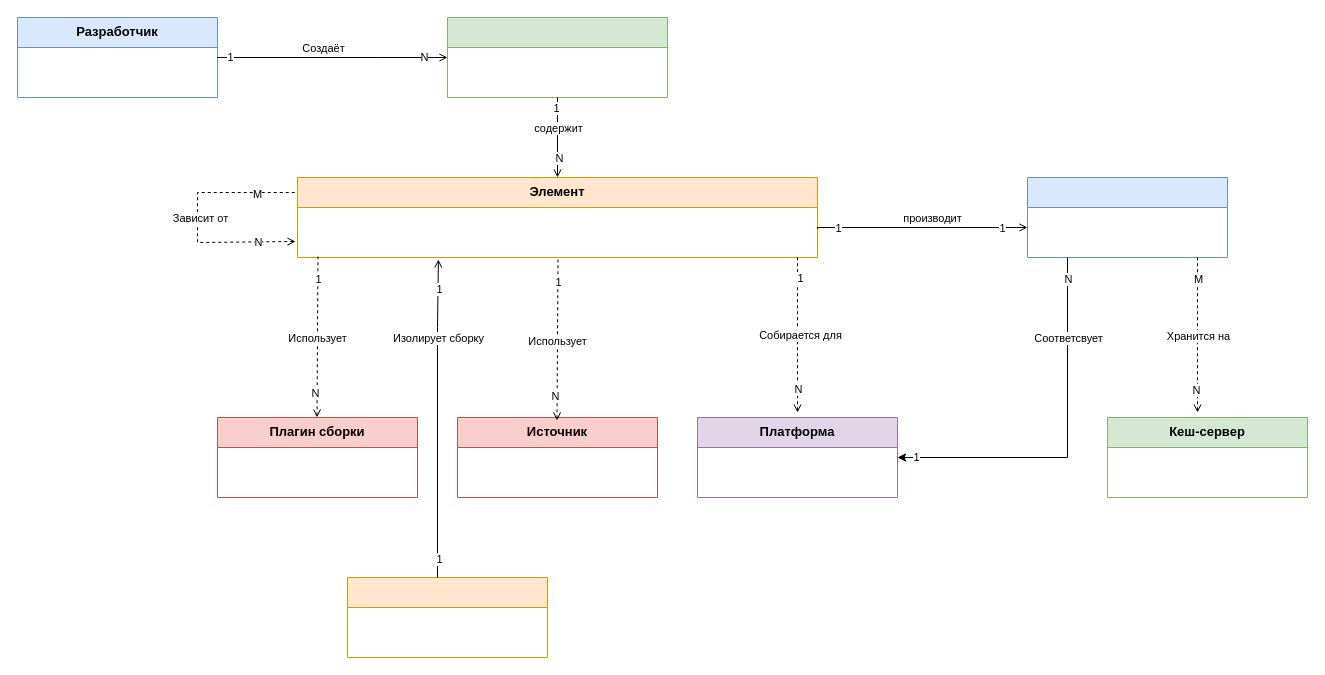
Some shapes in this 1325 by 675 pixel diagram are drawn without their labels. Here are the shapes that lost their labels. From the top down, the box of each, then its label:
(446, 16, 668, 98): Проект
(1026, 176, 1228, 258): Артефакт
(346, 576, 548, 658): Песочница
